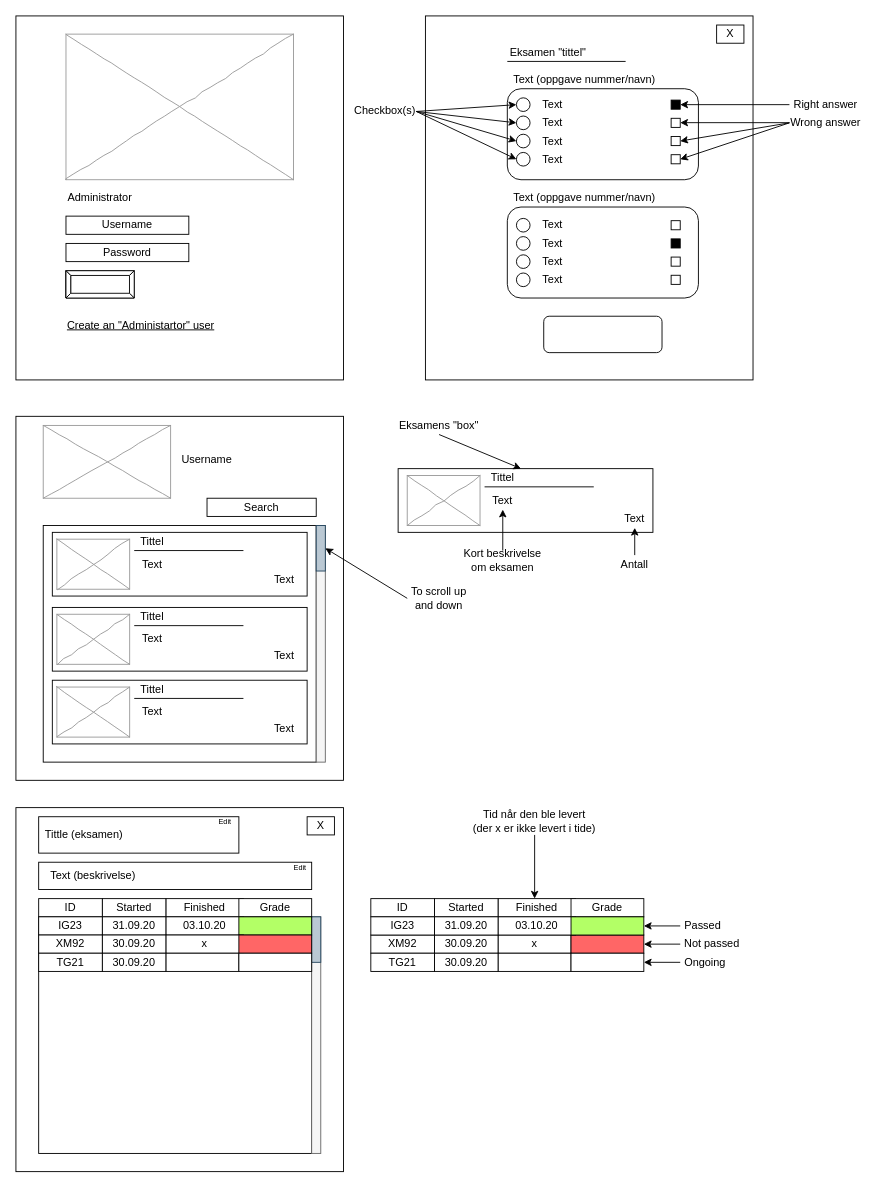
This 878x1188 diagram has some shape labels left out. The centre of each missing label's shape, as x and y in pixels:
"Legg til flere oppgaver" belongs at point 602,334.
"Sign in" belongs at point 99,284.
